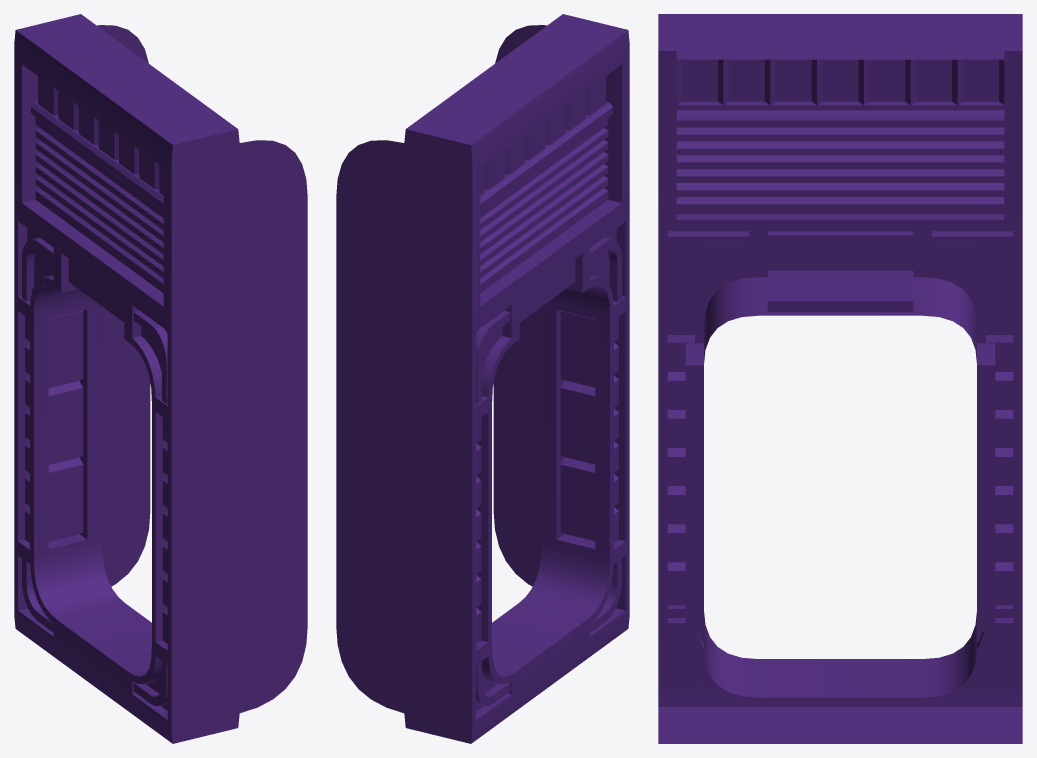
Rendered from Wall_C_4x2m_DoorA.FBX.
3 views of the same model, side by side, from view 1: azimuth 30°, elevation 25°; view 2: azimuth 150°, elevation 25°; view 3: azimuth 270°, elevation 25° (orthographic). The views are drawn at different scales.
Parts seen in each view (by area): view 1: Wall_C_4x2m_DoorA; view 2: Wall_C_4x2m_DoorA; view 3: Wall_C_4x2m_DoorA.
Boxes of the visible parts, x1,y1,x2,y2 form: Wall_C_4x2m_DoorA: [14, 14, 307, 743]; Wall_C_4x2m_DoorA: [336, 14, 629, 743]; Wall_C_4x2m_DoorA: [658, 14, 1022, 743].
Size of the model in its own units: 100 by 420 by 200.
